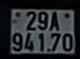.: (15, 11, 21, 18), (64, 13, 70, 19), (13, 19, 17, 24), (46, 47, 50, 52)
0: (62, 33, 73, 52)
1: (38, 32, 45, 52)
2: (25, 11, 36, 31)
4: (24, 32, 35, 52)
7: (51, 32, 61, 52)
9: (38, 11, 49, 32), (12, 32, 23, 52)
A: (49, 11, 60, 32)
